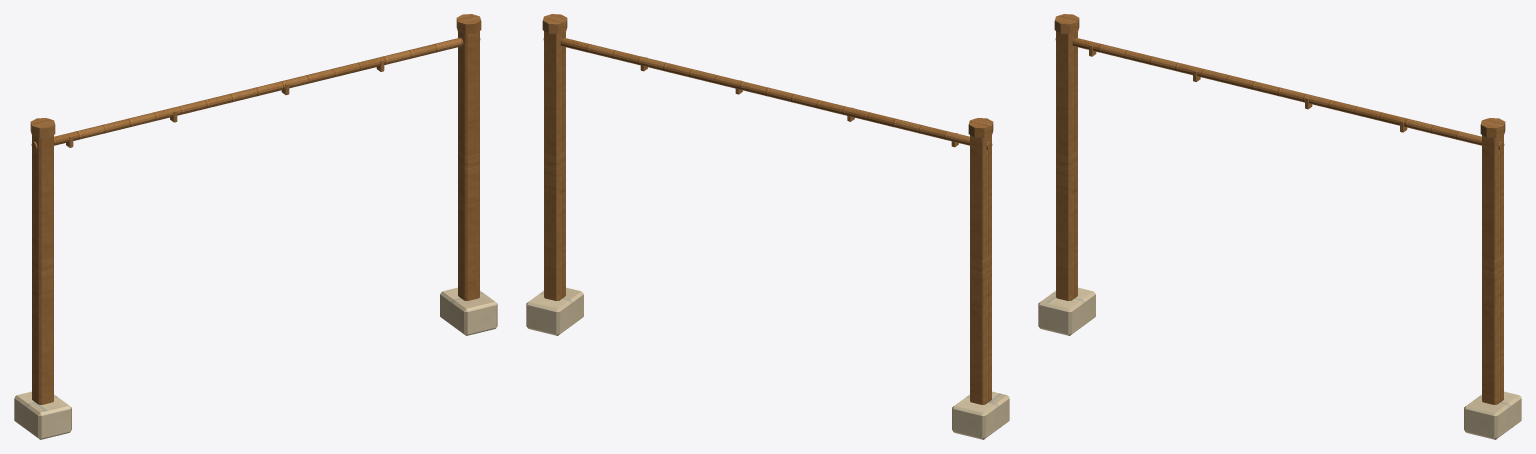
The model's file is Furn_ClothesLineEmpty.fbx.
3 views of the same model, side by side, from view 1: azimuth 30°, elevation 25°; view 2: azimuth 150°, elevation 25°; view 3: azimuth 330°, elevation 25° (orthographic).
Parts seen in each view (by area): view 1: Furn_ClothesLineEmpty_Mesh; view 2: Furn_ClothesLineEmpty_Mesh; view 3: Furn_ClothesLineEmpty_Mesh.
Part boxes in pixels (x1,y1,x2,y2): Furn_ClothesLineEmpty_Mesh: [14, 14, 497, 439]; Furn_ClothesLineEmpty_Mesh: [526, 14, 1009, 439]; Furn_ClothesLineEmpty_Mesh: [1038, 14, 1521, 439].
Size of the model in its own units: 3 by 1.9 by 0.3.
Materials: 2 (2 with a texture image).
